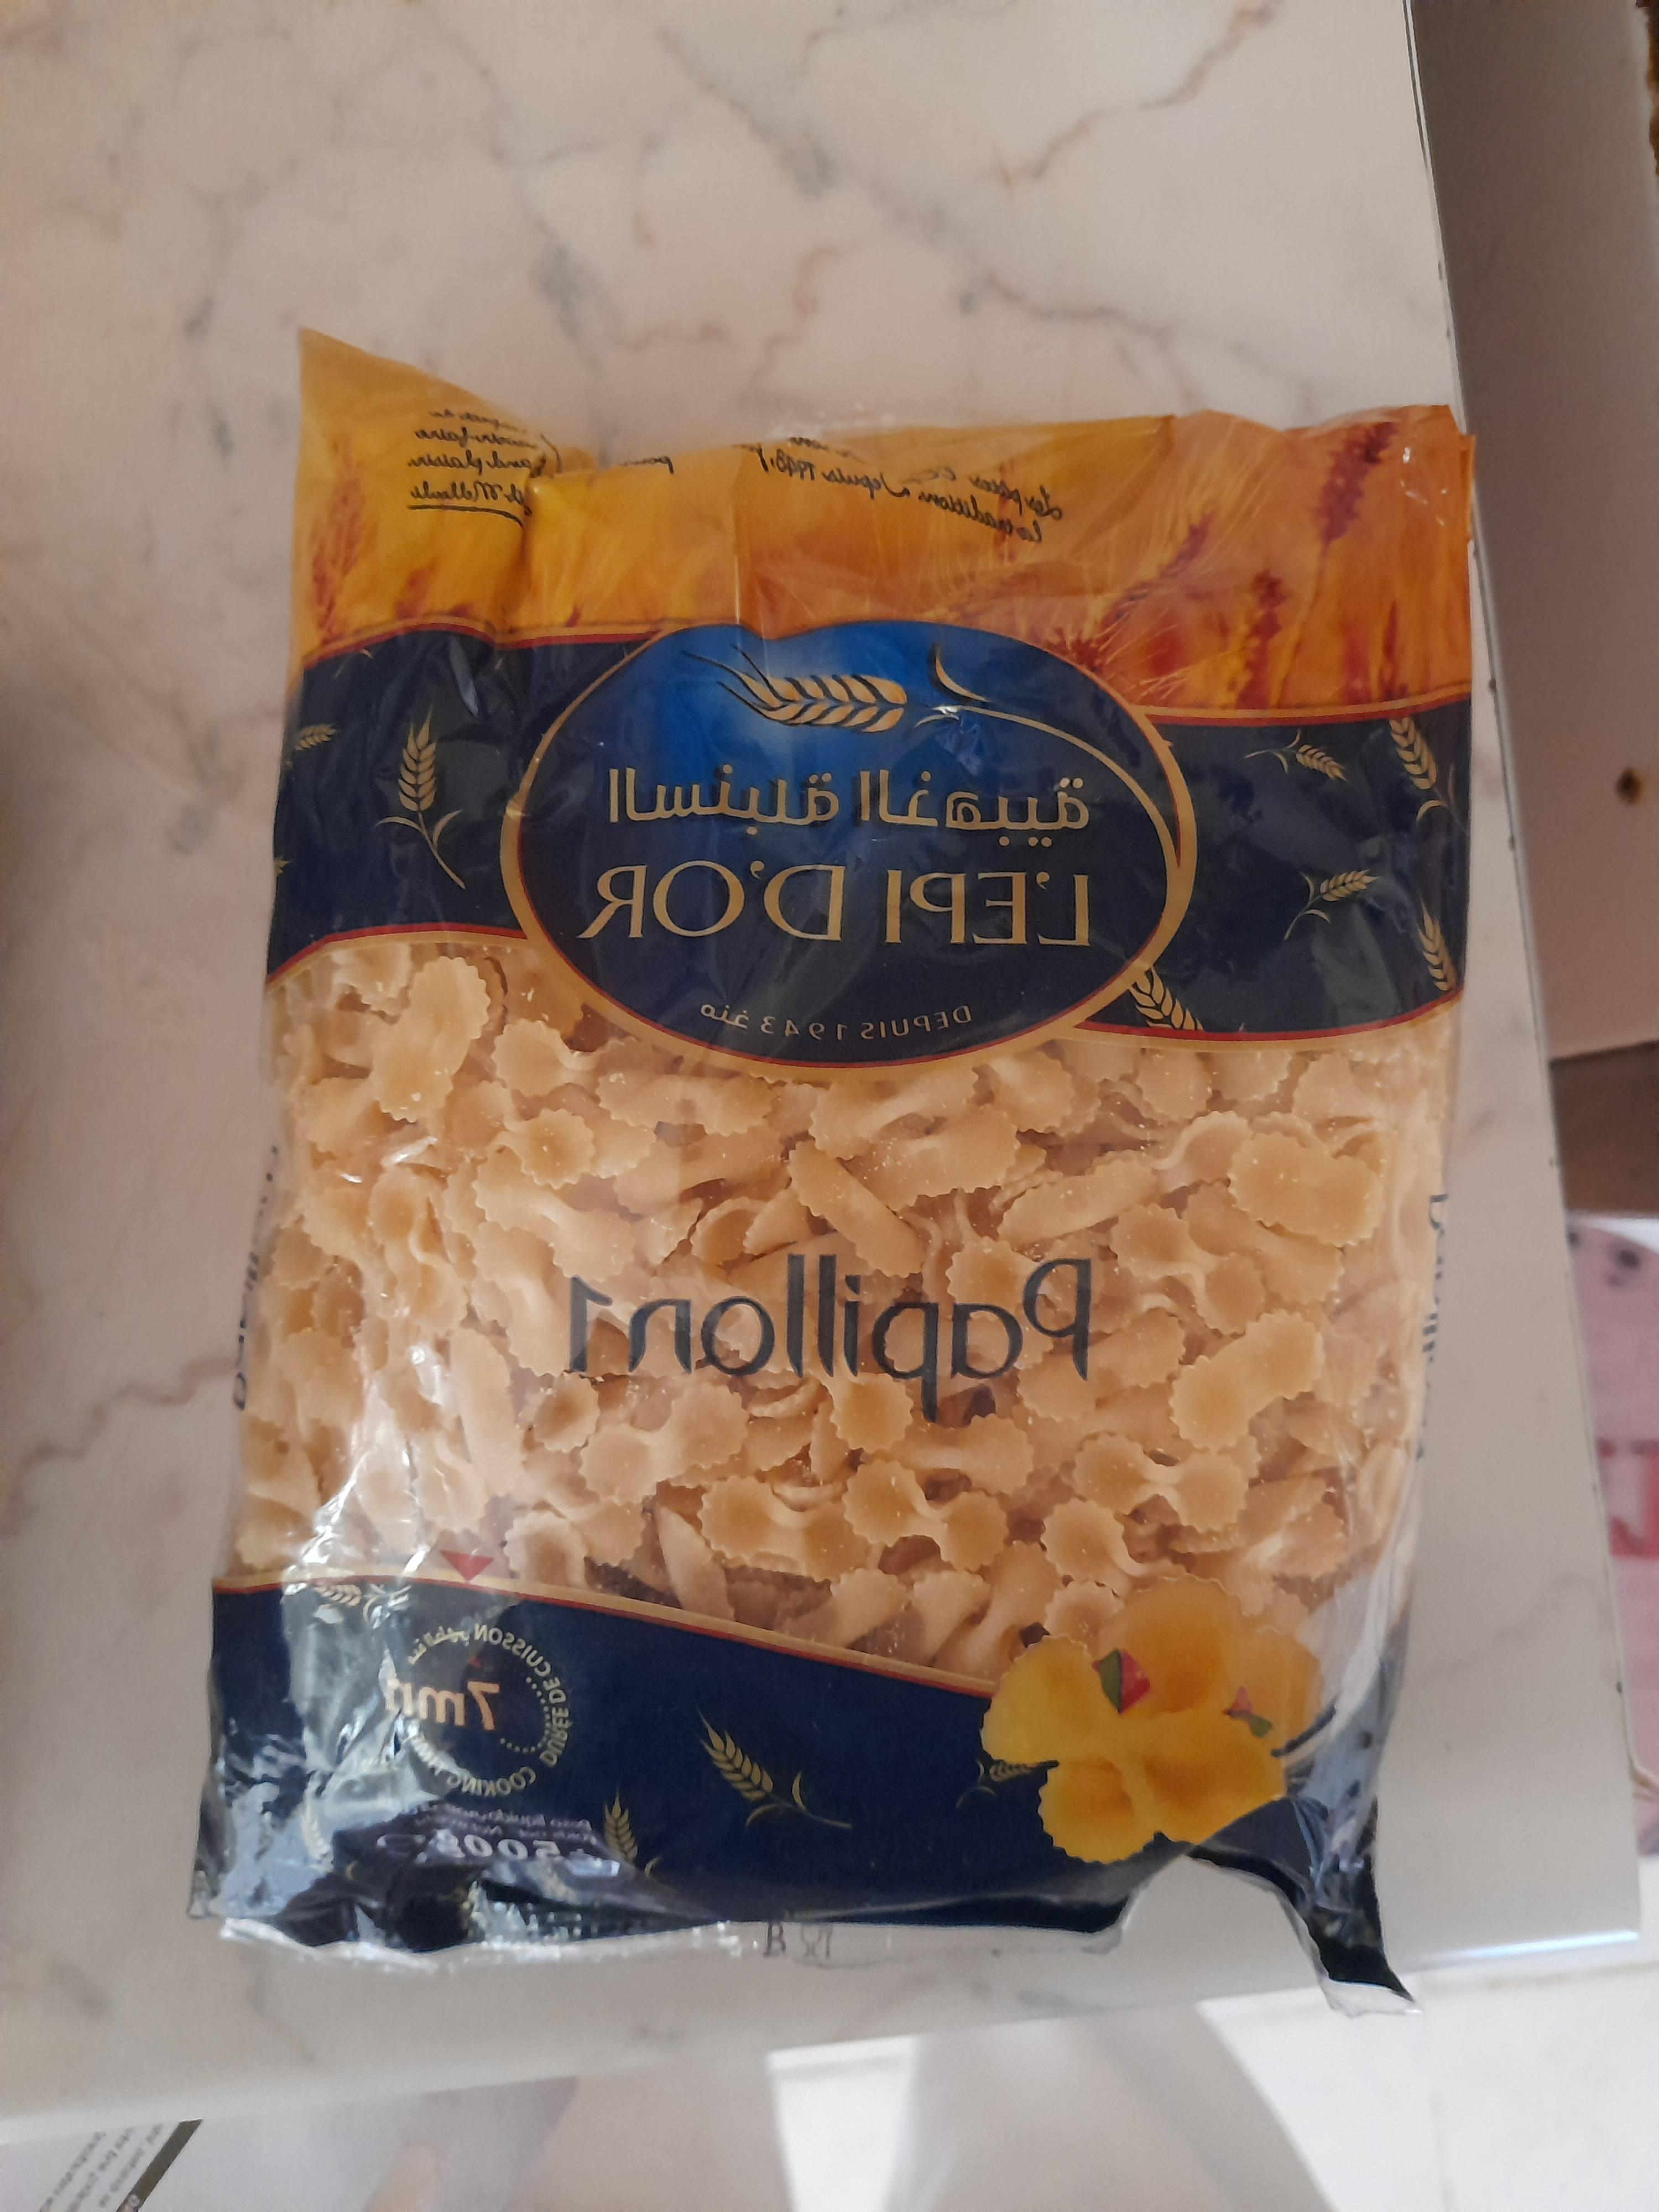Papillon: (917, 204, 1556, 850)
Spaghetti: (939, 207, 1561, 850), (1534, 796, 1570, 796)
